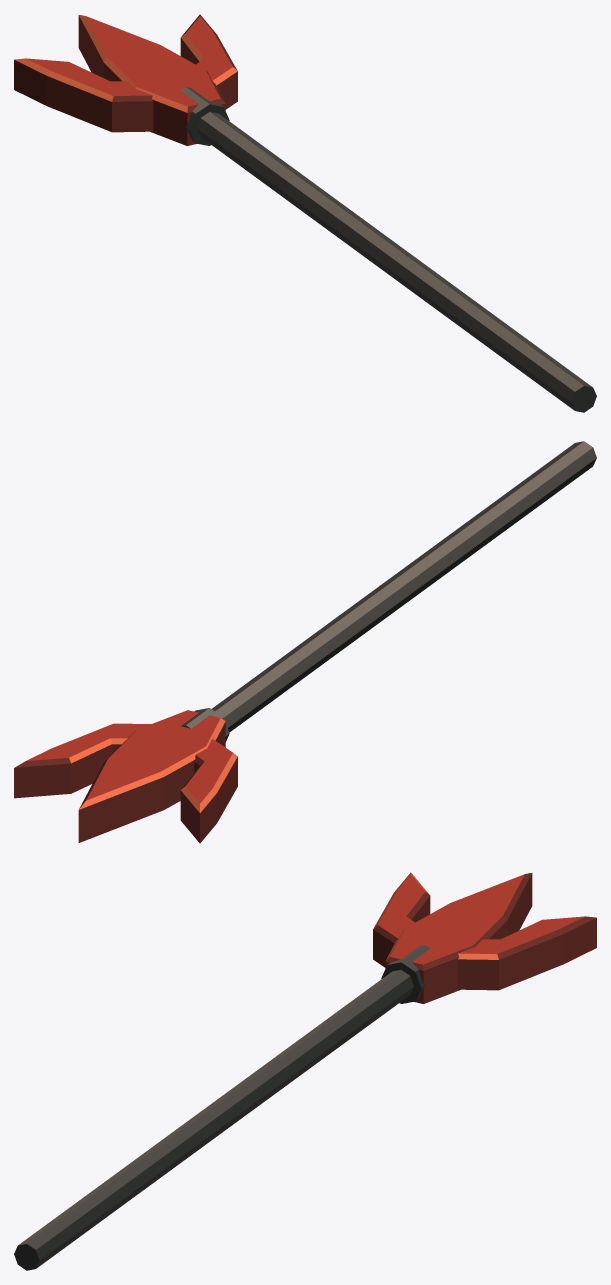
The model's file is lava_spear.fbx.
3 views of the same model, one above another, from view 1: azimuth 30°, elevation 25°; view 2: azimuth 150°, elevation 25°; view 3: azimuth 330°, elevation 25° (orthographic).
Parts seen in each view (by area): view 1: lava_spear; view 2: lava_spear; view 3: lava_spear.
Part boxes in pixels (<box>): lava_spear: <box>14,14,596,412</box>; lava_spear: <box>14,441,596,843</box>; lava_spear: <box>14,872,596,1270</box>.
Bounding box in the file's own units: 0.68 × 0.146 × 3.2.
1 material, 1 textured.
